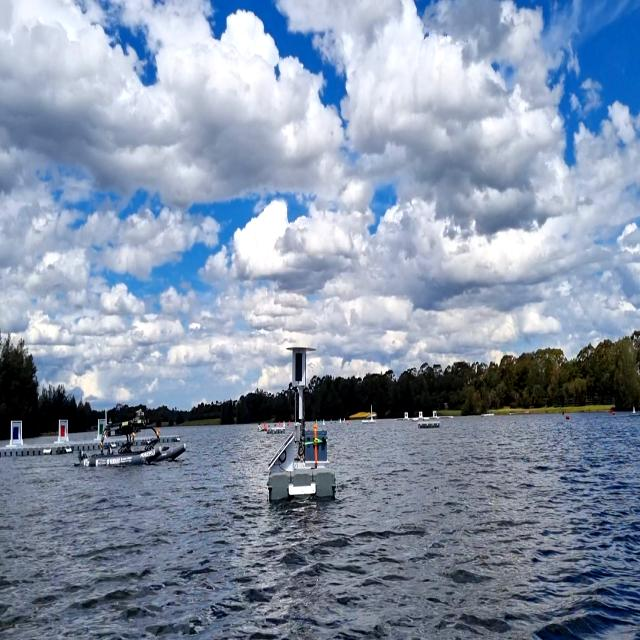led: (294, 351, 303, 383)
